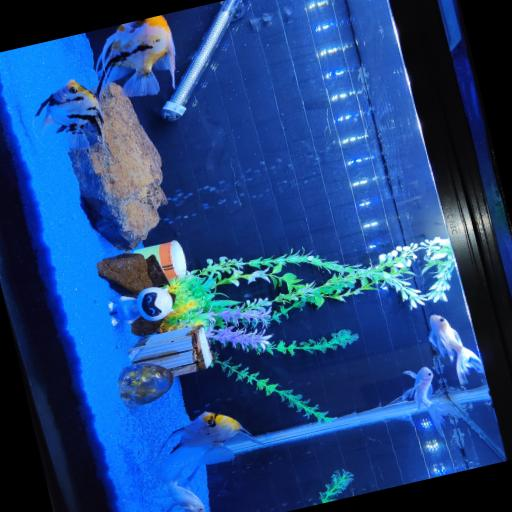Fish: (95, 15, 174, 96), (161, 411, 261, 466), (35, 79, 102, 149), (428, 314, 482, 384), (401, 366, 447, 434), (154, 467, 204, 511), (154, 468, 204, 511)
